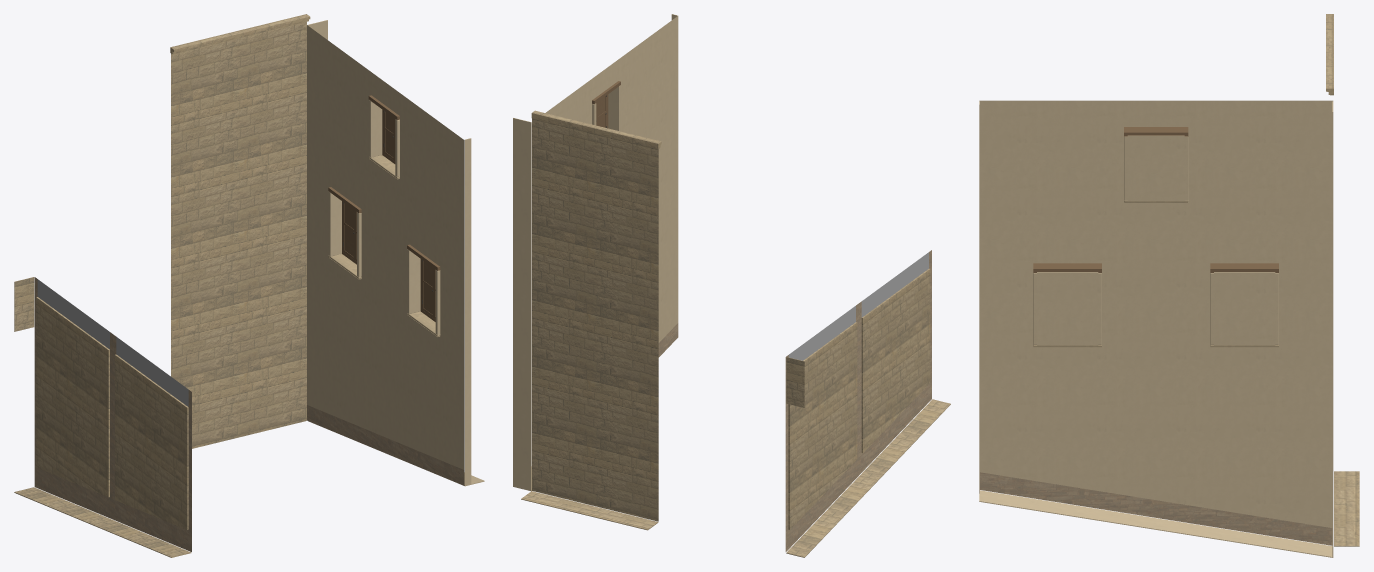
The model's file is unit-tea-ramp.glb.
3 renders of one model, left to right at view 1: azimuth 30°, elevation 25°; view 2: azimuth 150°, elevation 25°; view 3: azimuth 270°, elevation 25°, orthographic. The views are drawn at different scales.
Parts seen in each view (by area): view 1: bz06_dressed_sandstone-cast, bz06_cream_plaster-cast, bz06_service_stone-cast, bz04_craft_warm_timber-cast, ph_bz04_stone_trim_sandstone-cast, bz06_monolithic_stone_trim-cast; view 2: bz06_dressed_sandstone-cast, bz06_cream_plaster-cast, bz06_service_stone-cast, ph_bz04_stone_trim_sandstone-cast, bz04_craft_warm_timber-cast; view 3: bz06_cream_plaster-cast, bz06_service_stone-cast, bz06_dressed_sandstone-cast, bz04_craft_warm_timber-cast, bz06_monolithic_stone_trim-cast.
Part boxes in pixels (x1,y1,x2,y2): bz06_dressed_sandstone-cast: (14,14,310,557); bz06_cream_plaster-cast: (307,20,484,486); bz06_service_stone-cast: (34,277,464,551); bz04_craft_warm_timber-cast: (328,95,440,321); ph_bz04_stone_trim_sandstone-cast: (37,279,188,406); bz06_monolithic_stone_trim-cast: (328,155,440,337); bz06_dressed_sandstone-cast: (521,110,950,557); bz06_cream_plaster-cast: (513,14,678,491); bz06_service_stone-cast: (658,250,931,551); ph_bz04_stone_trim_sandstone-cast: (788,252,928,360); bz04_craft_warm_timber-cast: (592,81,620,128); bz06_cream_plaster-cast: (979,100,1333,557); bz06_service_stone-cast: (980,472,1332,545); bz06_dressed_sandstone-cast: (1326,14,1359,546); bz04_craft_warm_timber-cast: (1033,127,1278,272); bz06_monolithic_stone_trim-cast: (1033,200,1278,347).
Bounding box in the file's own units: 9.2 × 11.42 × 8.6.
7 materials, 6 textured.
